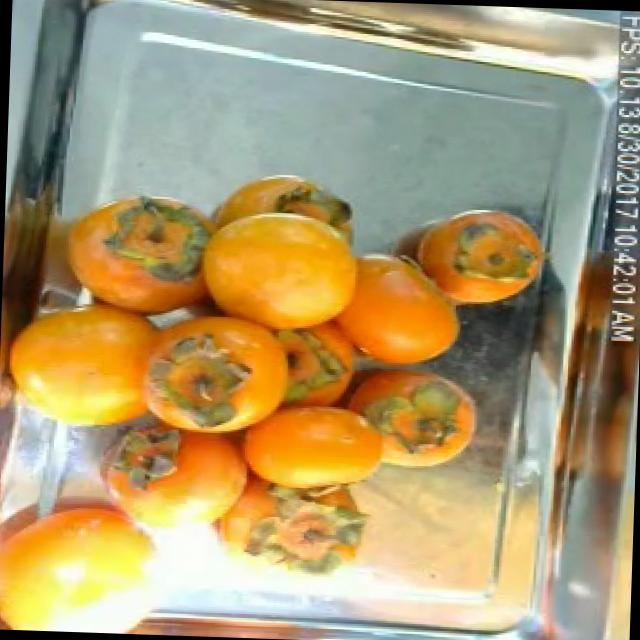Fruit: (311, 240, 481, 374), (398, 193, 550, 318)
